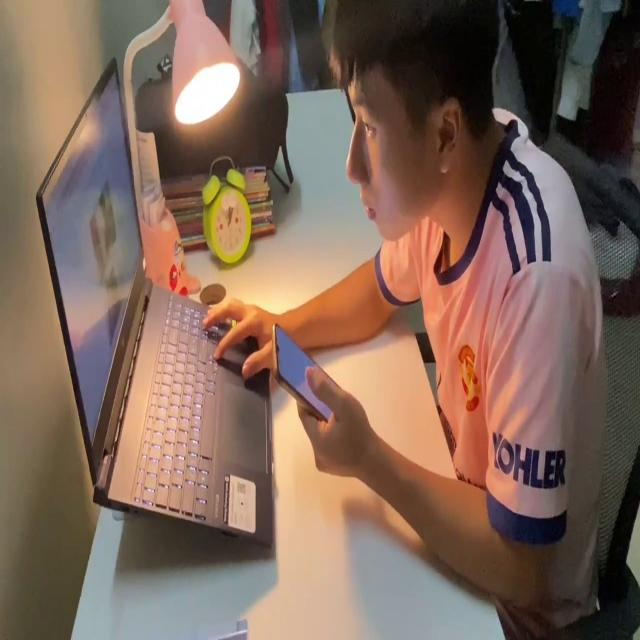laptop: (31, 51, 275, 556)
phone: (270, 321, 336, 421)
student: (208, 3, 609, 625)
